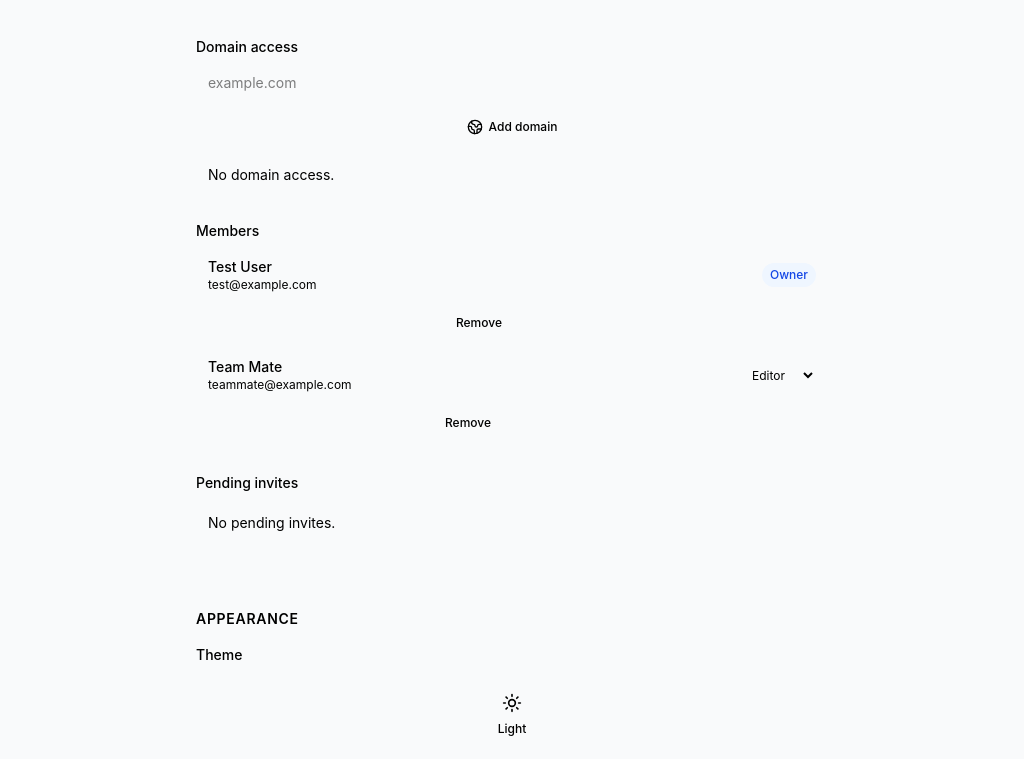
Scenario: SettingsScreen › displays errors when member role updates fail
(page scrolled)
Select "Viewer" in the dropdown named "Role for teammate@example.com". click: [778, 375]
box: [740,357,816,393]
(page scrolled)
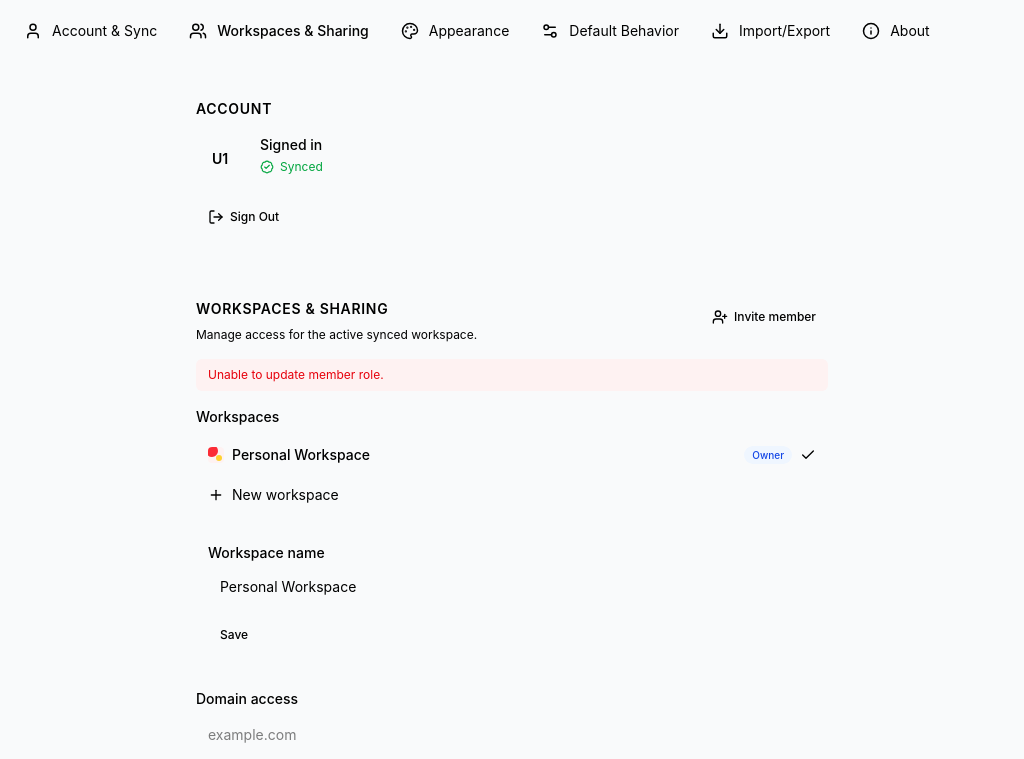
Check: the message reads "Unable to update member role.", box [208,367,384,382]
